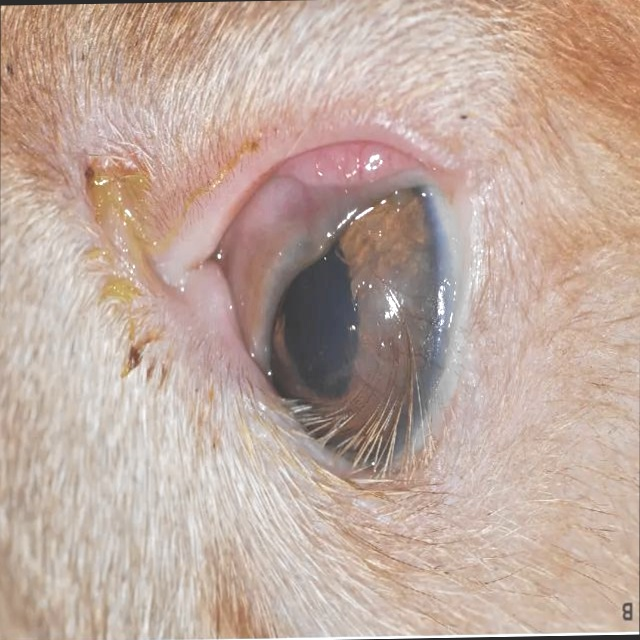eye_infection: (182, 110, 478, 495)
